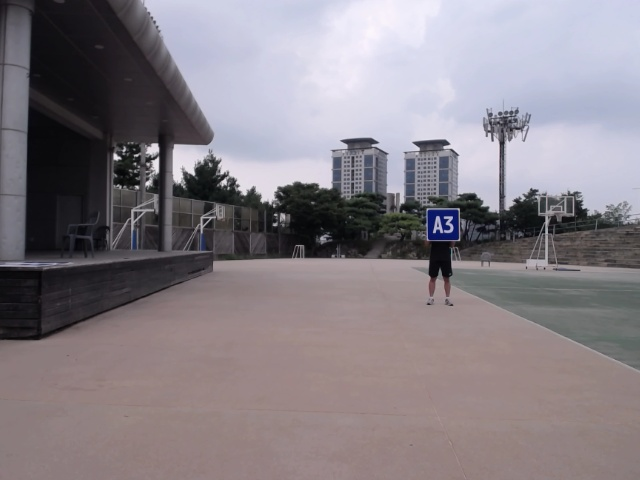delivery_a3: (426, 208, 460, 241)
